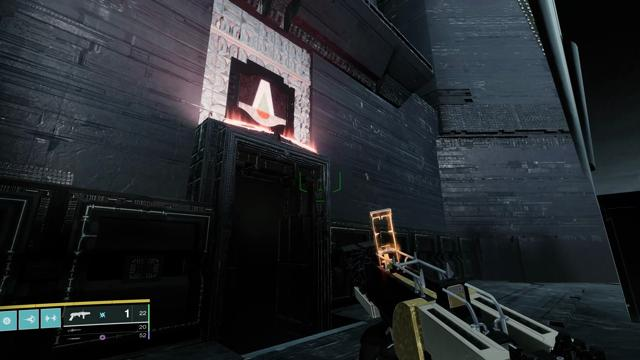enter: (239, 75, 287, 126)
